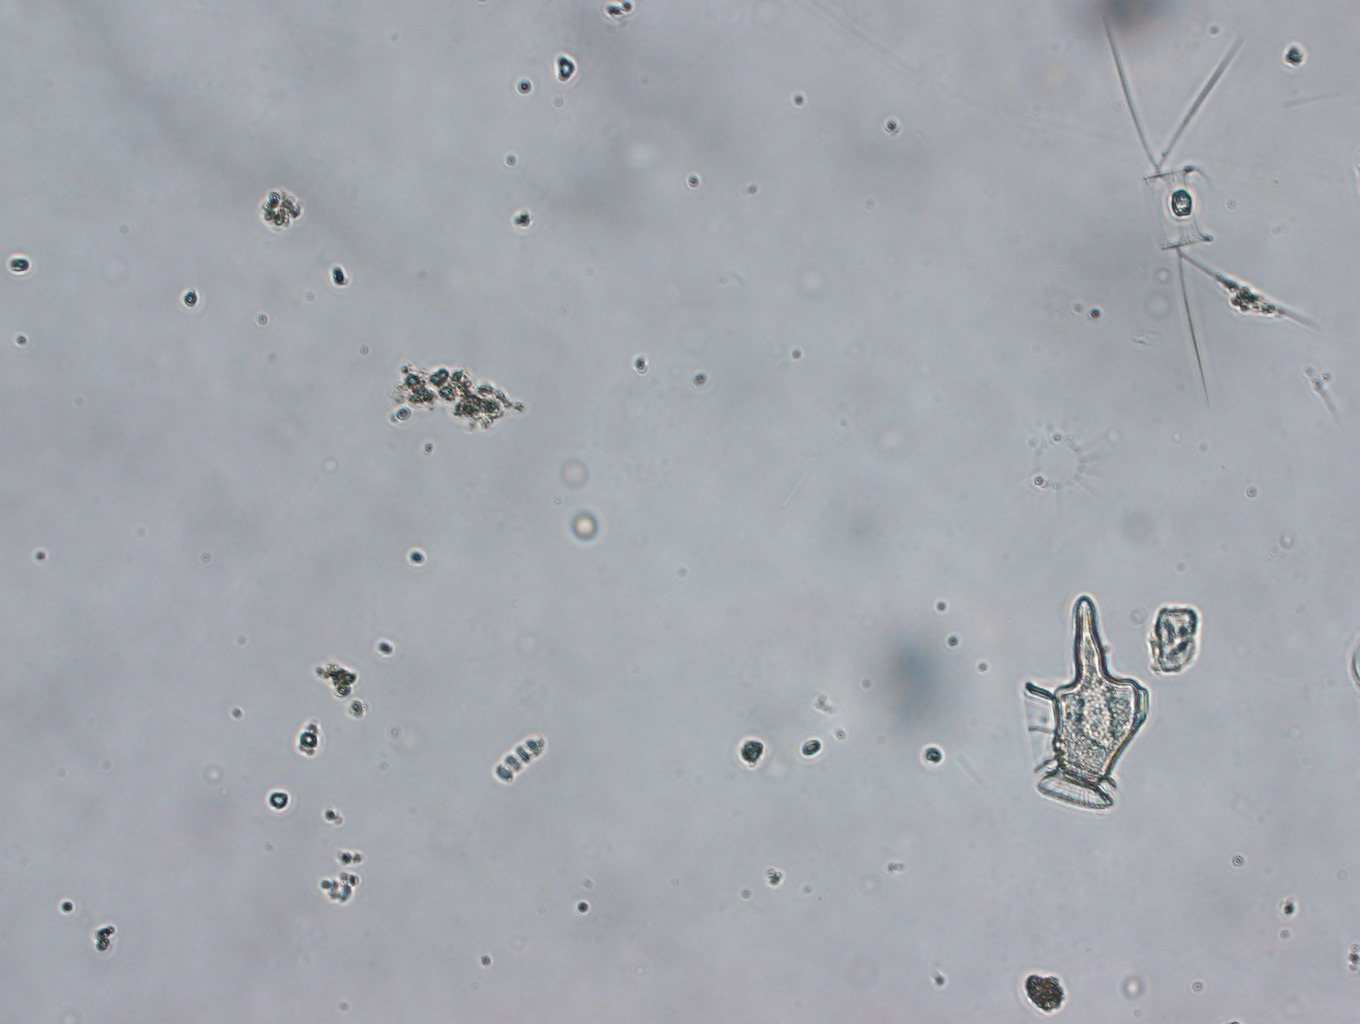chaetoceros: (1104, 16, 1321, 406)
dinophysis caudata: (1016, 591, 1154, 819)
